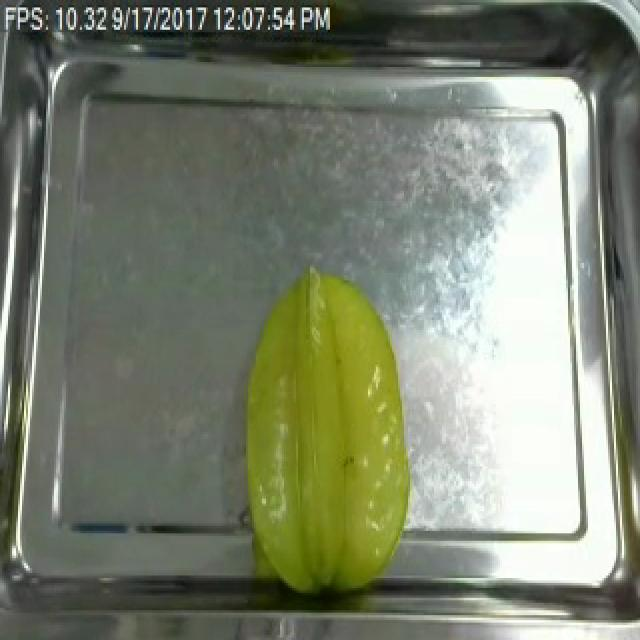fruit: (228, 260, 422, 606)
